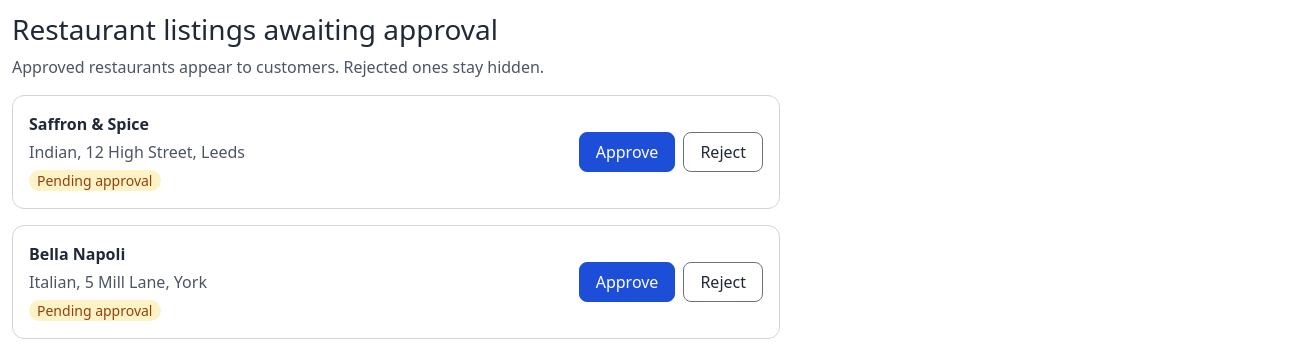
ListingApprovalsPage › rejects a listing (AC 5)
Click the button with aria-label "Reject Saffron & Spice": [723, 152] box top-left (683, 132), bottom-right (763, 172)
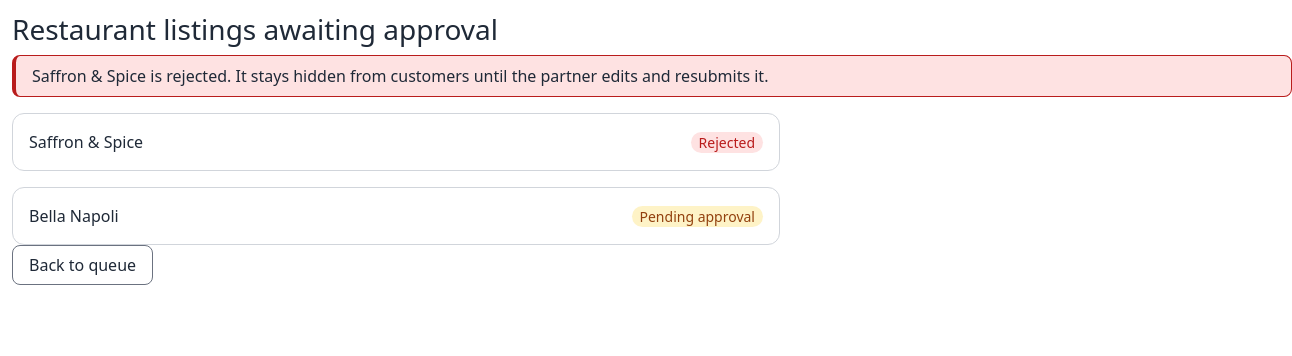
Result: the text "Saffron & Spice is rejected. It stays hidden from customers until the partner edits and resubmits it." is shown at top-left (32, 65), bottom-right (768, 87)
